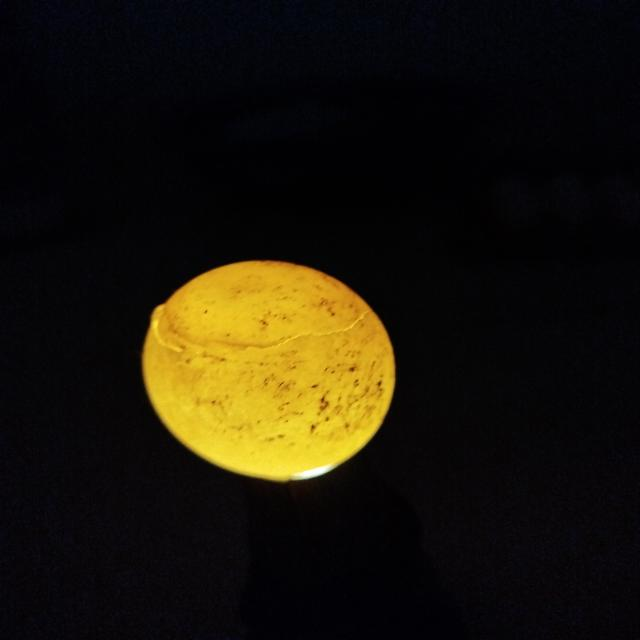Rachadura: (152, 304, 370, 355)
